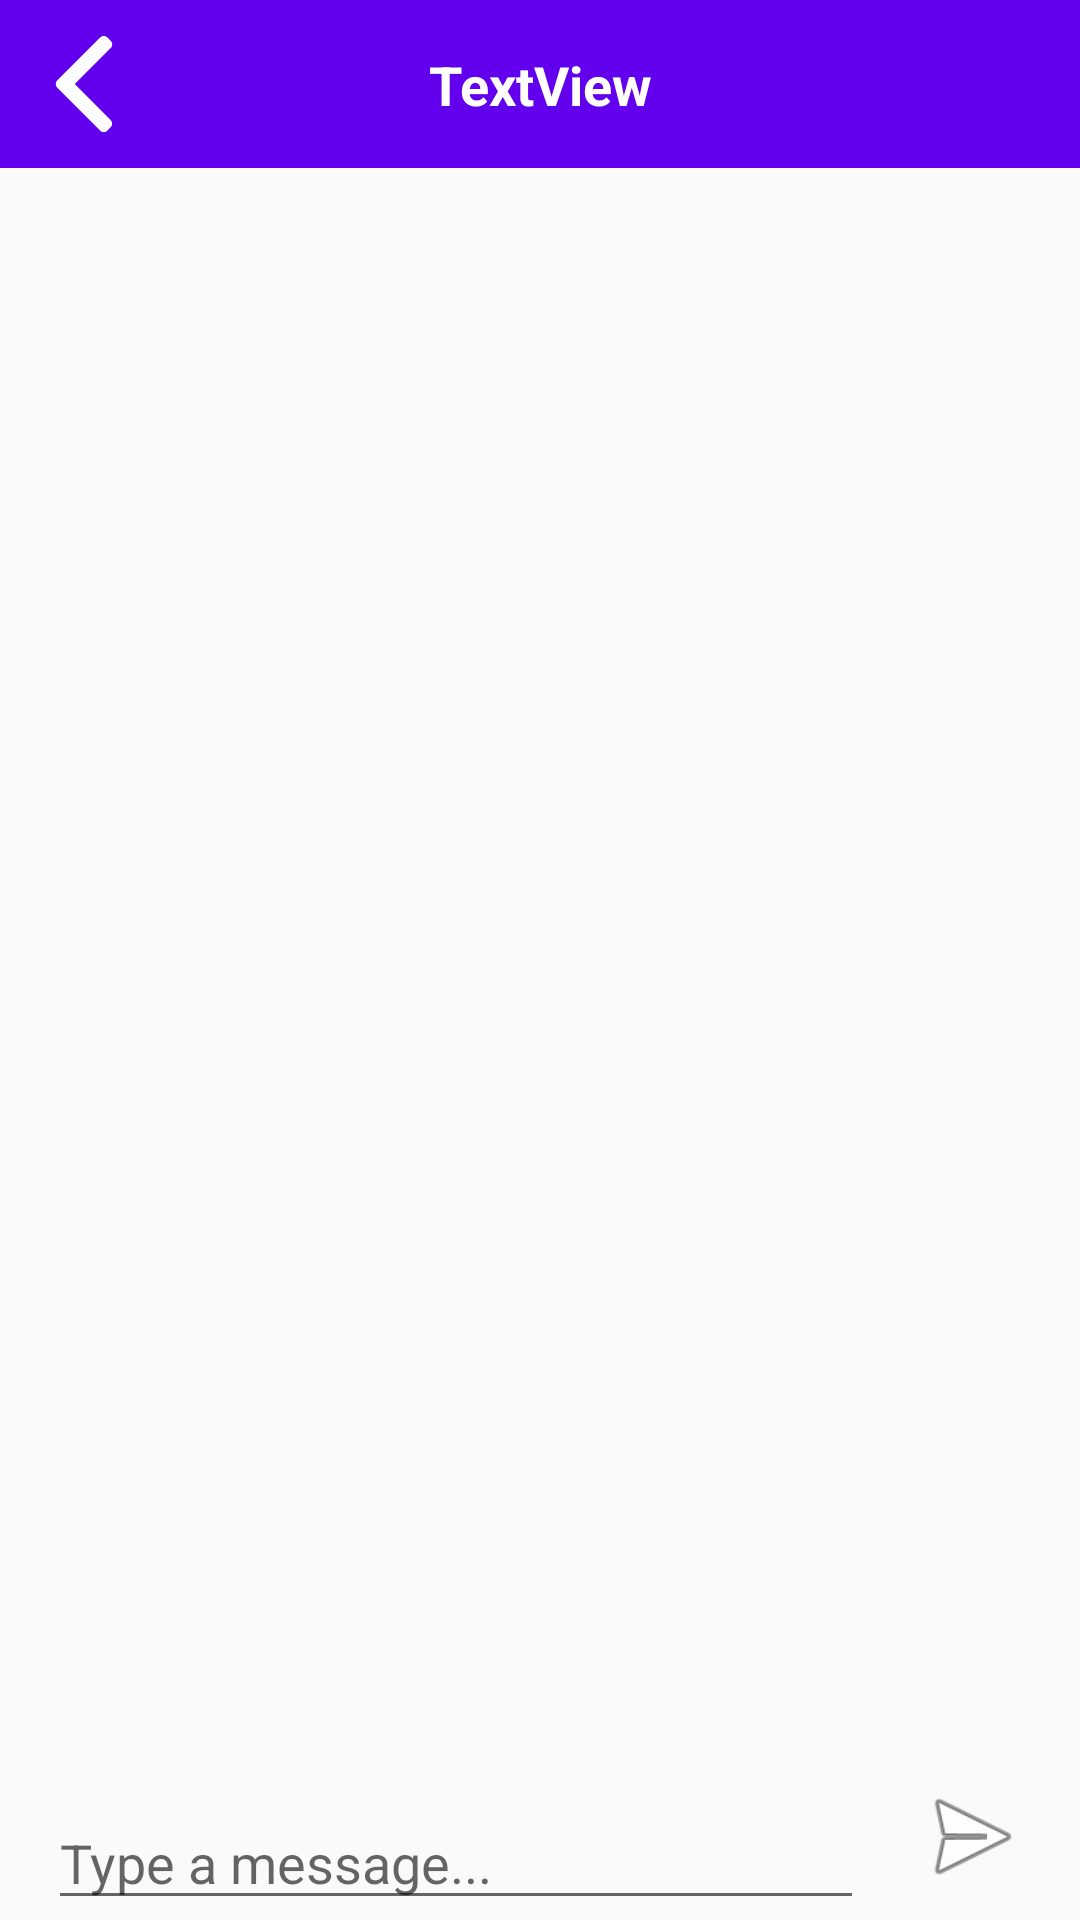

Screen size 1080 x 1920. Icon name, then its center in pixels as [x,y]:
arrow left: [84,84]
send: [973,1837]
